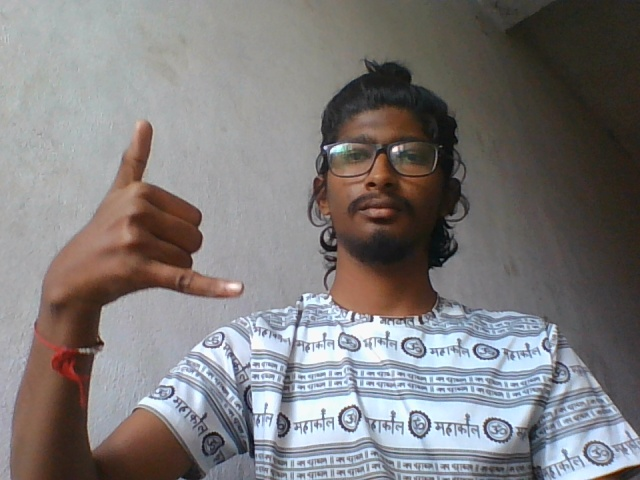Yes: (21, 111, 254, 323)
